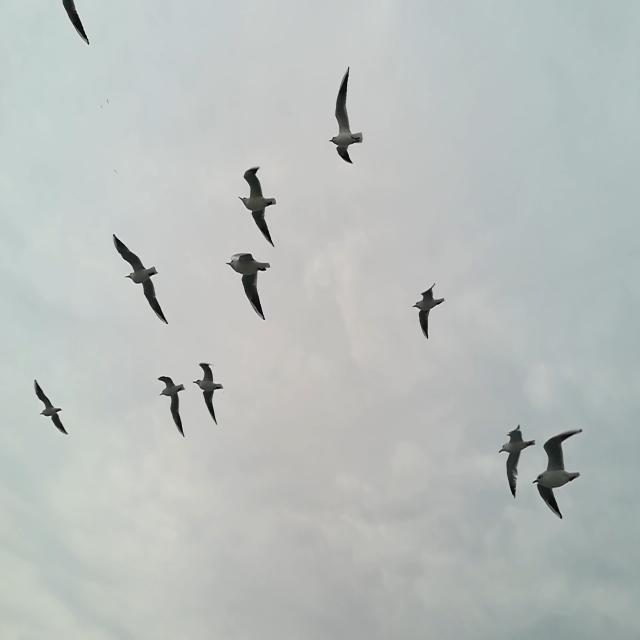bird: (112, 232, 168, 326), (532, 428, 584, 521), (329, 69, 363, 165), (225, 250, 271, 320), (240, 165, 278, 248), (497, 424, 536, 498), (156, 373, 188, 438), (192, 362, 224, 426), (33, 380, 68, 436), (413, 282, 446, 340), (62, 0, 91, 46), (113, 167, 118, 175), (100, 104, 103, 110), (106, 99, 109, 104)
